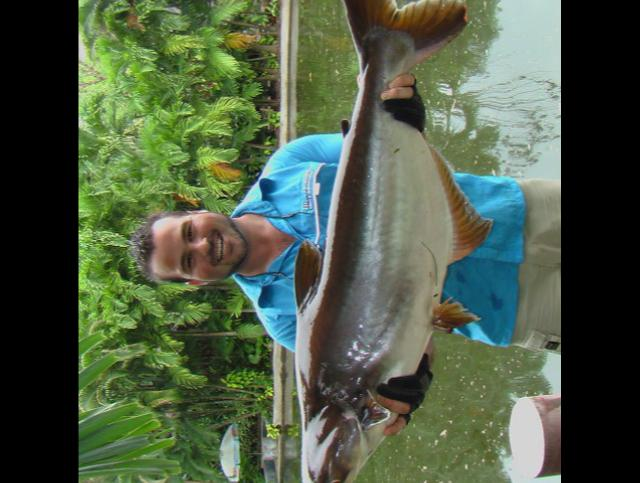Mulut: (292, 474, 355, 483)
Sirip Anal: (423, 134, 498, 266)
Sirip Dada: (346, 384, 398, 438)
Sirip Ekor: (338, 0, 473, 65)
Sirip Perut: (426, 291, 484, 332)
Sirip Punggung: (282, 238, 335, 307)
